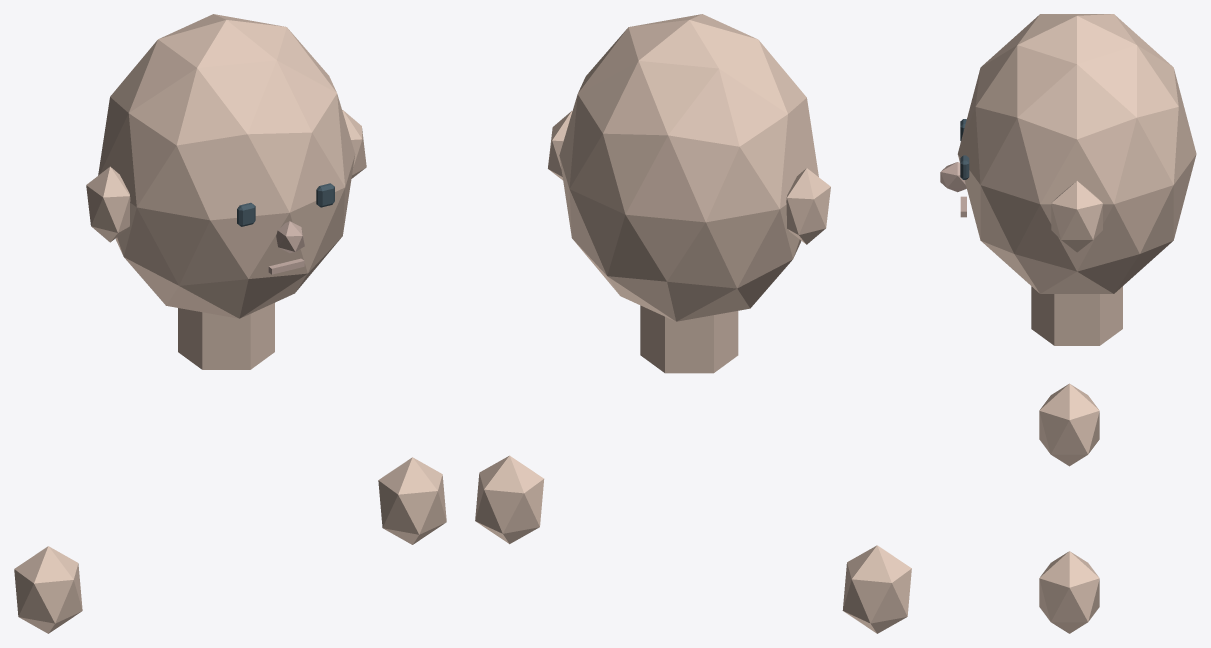
The model's file is SM_NPC_Body_01_Female.glb.
3 renders of one model, left to right at view 1: azimuth 30°, elevation 25°; view 2: azimuth 150°, elevation 25°; view 3: azimuth 270°, elevation 25°, orthographic. The views are drawn at different scales.
Parts seen in each view (by area): view 1: SM_NPC_Body_01_Female; view 2: SM_NPC_Body_01_Female; view 3: SM_NPC_Body_01_Female.
Boxes of the visible parts, x1,y1,x2,y2 form: SM_NPC_Body_01_Female: (14, 14, 446, 633); SM_NPC_Body_01_Female: (475, 14, 911, 633); SM_NPC_Body_01_Female: (940, 14, 1196, 633).
Bounding box in the file's own units: 0.9088 × 1.16 × 0.504.
